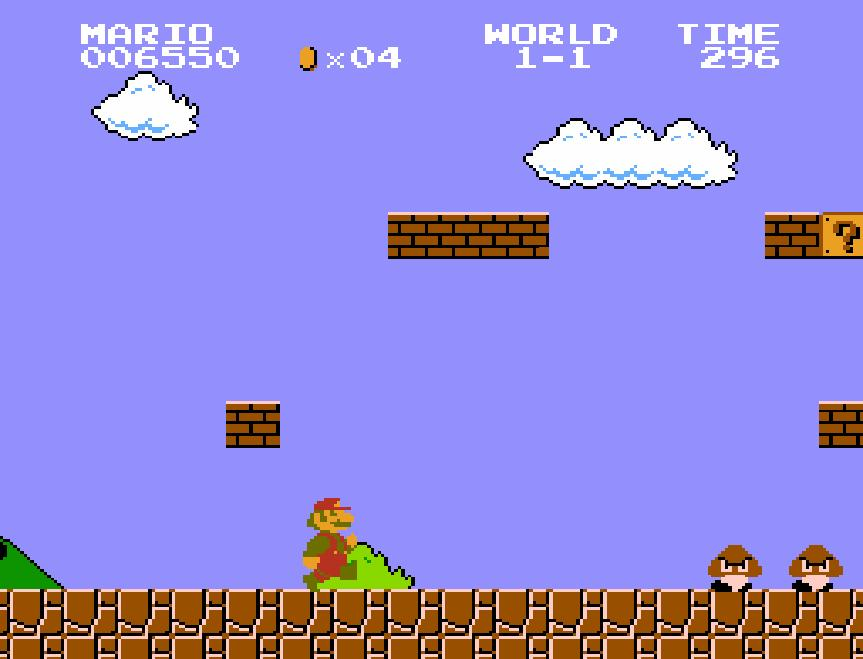big_mario: (301, 496, 359, 594)
